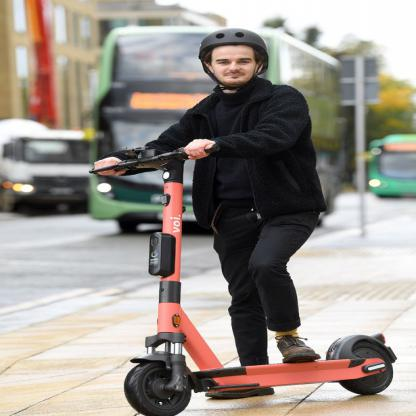scooter: (90, 142, 398, 416)
with helmet: (197, 27, 274, 90)
